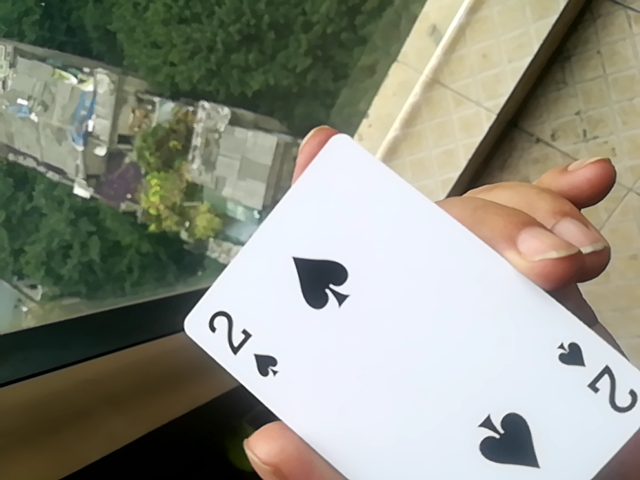ht 2: (158, 122, 640, 479)
